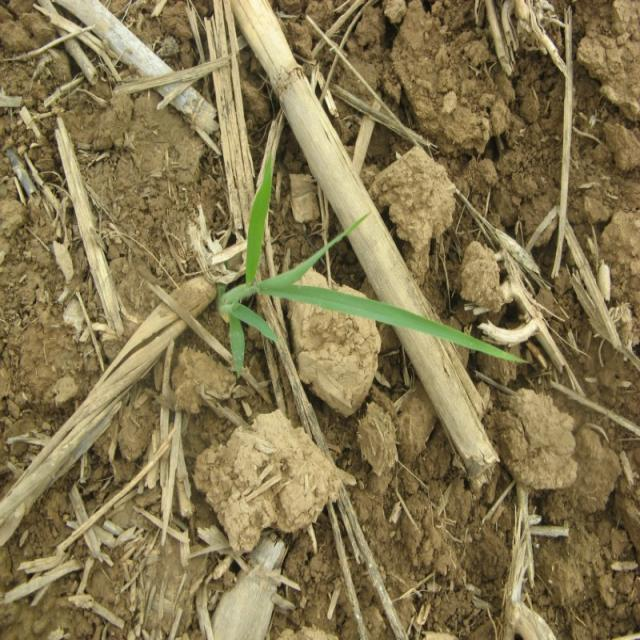bg: (218, 150, 533, 382)
